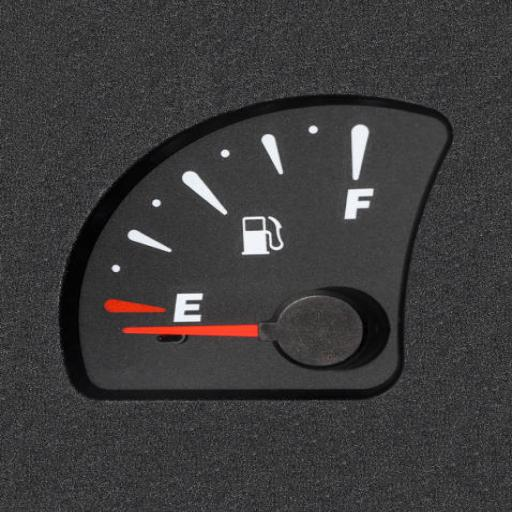empty: (170, 284, 207, 327)
fuel_icon: (236, 214, 288, 262)
full: (343, 186, 379, 227)
guage_area: (33, 74, 482, 429)
needle_center: (241, 289, 379, 369)
needle_tip: (114, 321, 156, 345)
